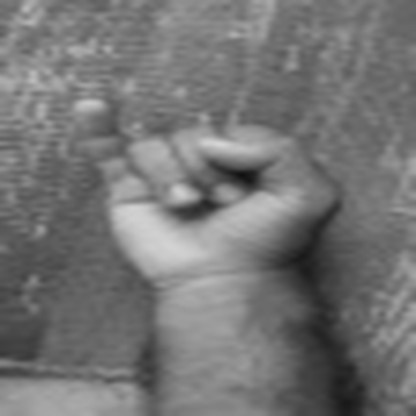i: (60, 83, 343, 277)
